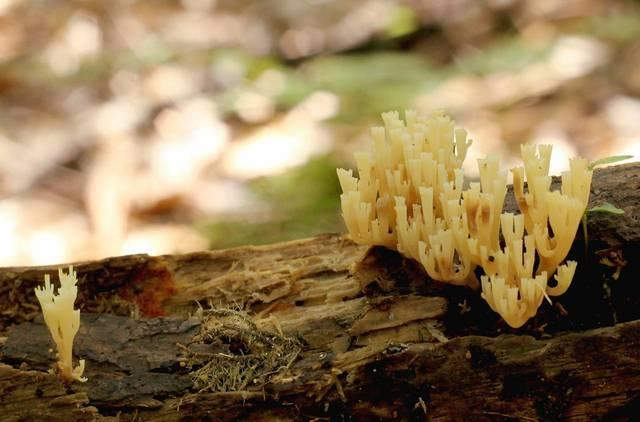edible_mushroom: (335, 105, 594, 328), (33, 264, 87, 386)
